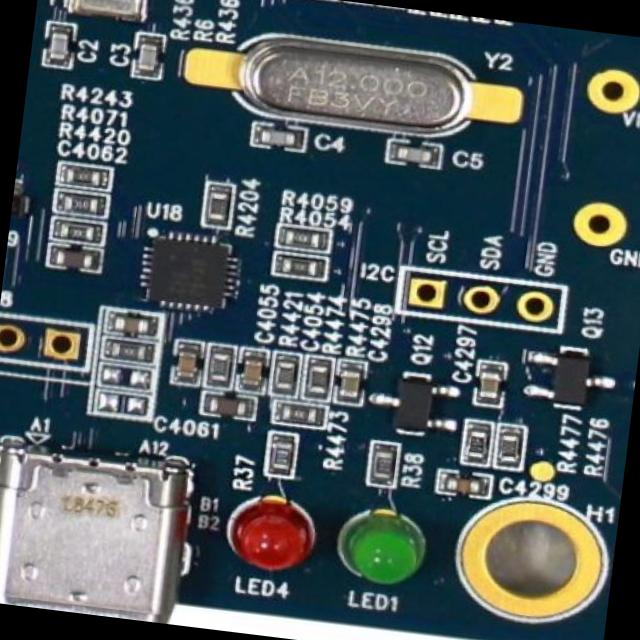IC: (137, 224, 236, 314)
LED: (218, 494, 312, 582), (348, 508, 426, 593)
capacitor: (204, 389, 261, 424), (466, 362, 508, 405), (250, 120, 302, 152), (385, 144, 439, 172), (42, 27, 76, 70), (442, 473, 500, 497), (54, 245, 102, 272), (337, 361, 366, 402), (134, 33, 160, 78), (115, 312, 156, 340), (179, 344, 205, 384), (238, 354, 264, 392)
connector: (0, 434, 196, 624)
resistor: (48, 211, 104, 249), (490, 425, 528, 474), (60, 160, 111, 196), (204, 182, 234, 233), (54, 192, 107, 219), (276, 225, 328, 252), (274, 255, 326, 282), (464, 421, 496, 464), (268, 432, 296, 480), (367, 447, 394, 485)
transistor: (530, 343, 600, 418), (382, 374, 446, 441)
